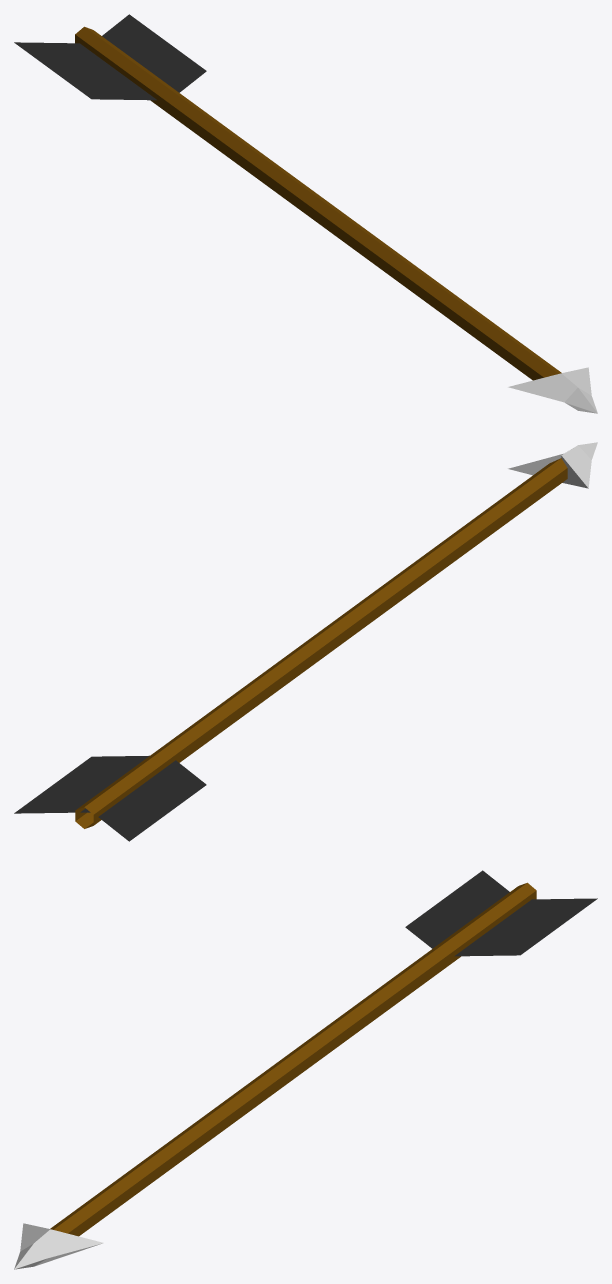
The model's file is basic arrow.fbx.
3 views of the same model, one above another, from view 1: azimuth 30°, elevation 25°; view 2: azimuth 150°, elevation 25°; view 3: azimuth 330°, elevation 25° (orthographic).
Parts seen in each view (by area): view 1: Cylinder; view 2: Cylinder; view 3: Cylinder.
Part boxes in pixels (x1,y1,x2,y2): Cylinder: (14,14,597,413); Cylinder: (14,442,597,841); Cylinder: (14,870,597,1269).
Size of the model in its own units: 0.2122 by 0.048 by 1.68.
